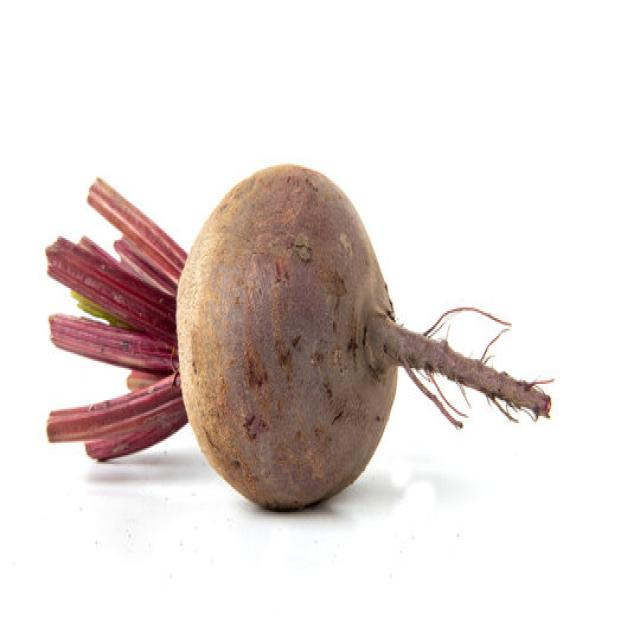Beetroot: (44, 162, 553, 512)
